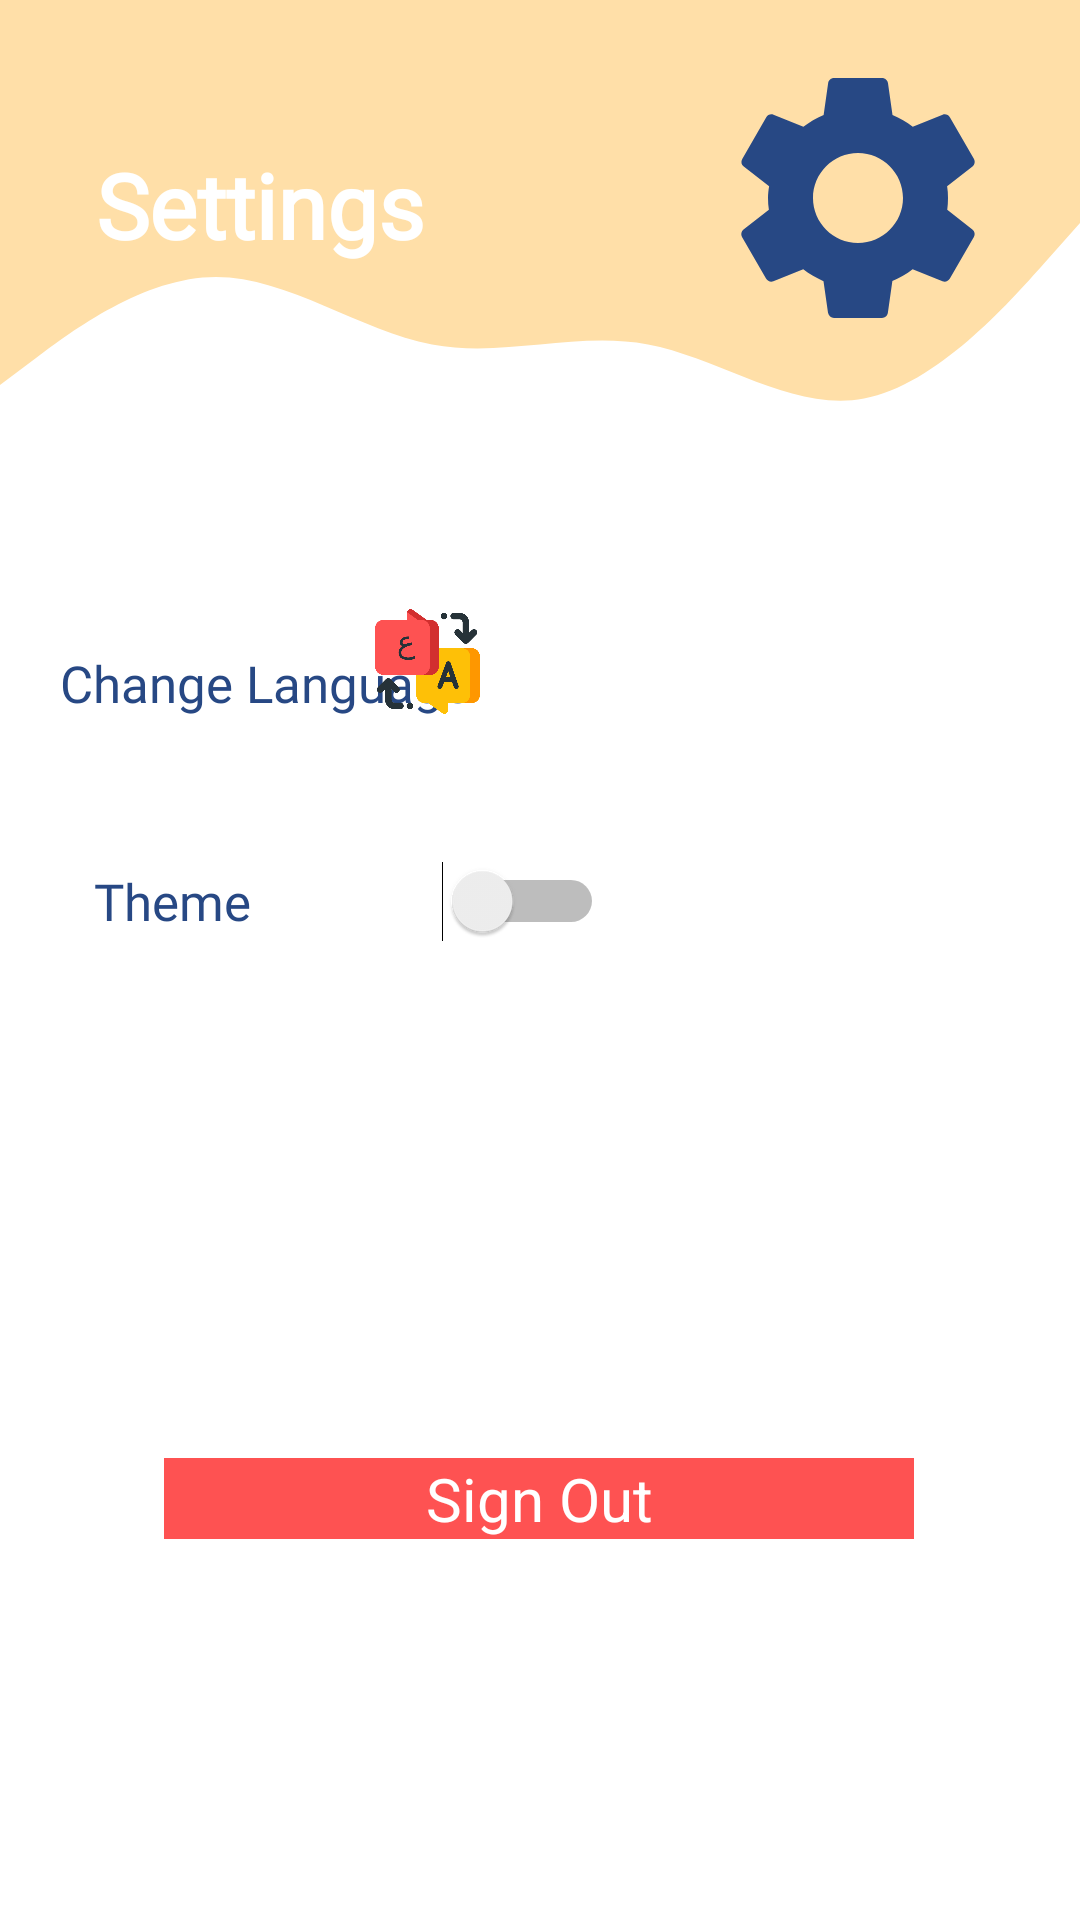

Where icons sit on this 1080w x 1920h app screen, as (x1, y1, x2, y2):
translate: (375, 609, 480, 714)
